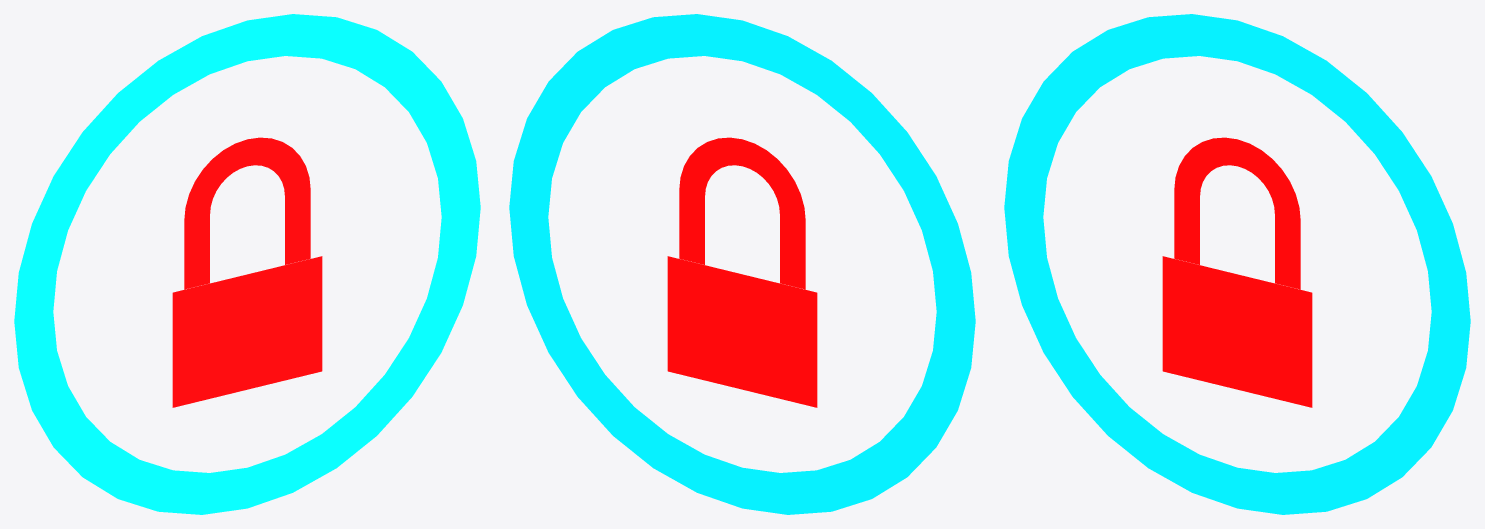
File: door1-UI.glb
3 views of the same model, side by side, from view 1: azimuth 30°, elevation 25°; view 2: azimuth 150°, elevation 25°; view 3: azimuth 330°, elevation 25° (orthographic).
Parts seen in each view (by area): view 1: UI_lock-locked; view 2: UI_lock-locked; view 3: UI_lock-locked.
Part boxes in pixels (bbox=[...]): UI_lock-locked: bbox=[14, 14, 480, 514]; UI_lock-locked: bbox=[509, 14, 975, 514]; UI_lock-locked: bbox=[1004, 14, 1470, 514].
Size of the model in its own units: 0.3989 by 0.3989 by 6.39e-08.
